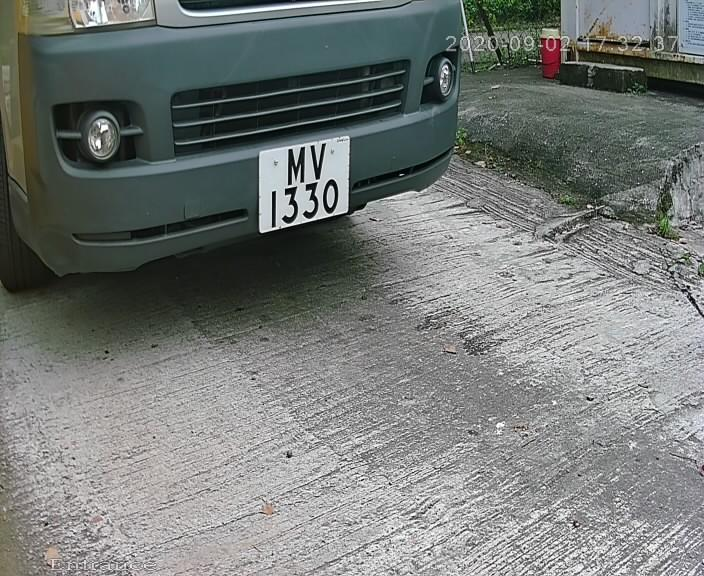License Plate: (249, 132, 362, 235)
